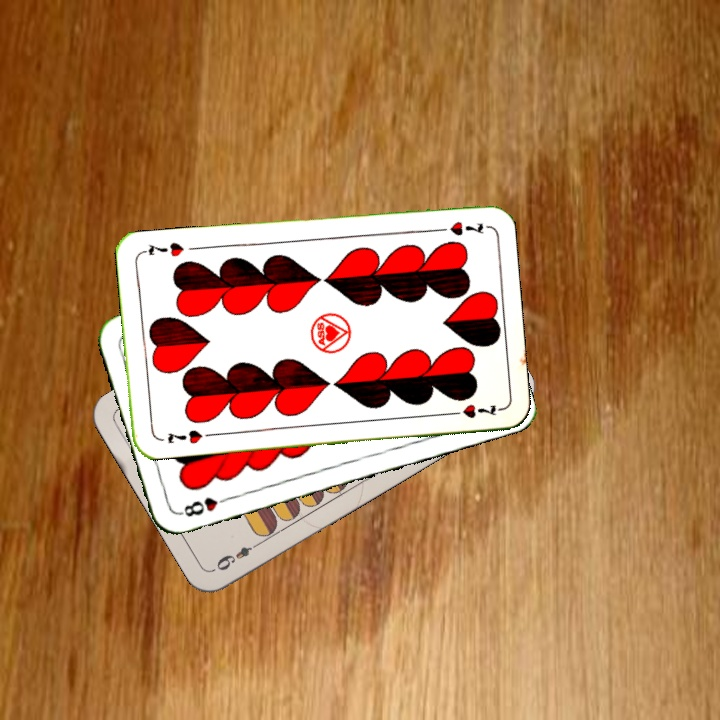E9: (212, 538, 264, 574)
H7: (429, 217, 486, 238), (163, 425, 205, 447)
H8: (176, 492, 233, 520)
